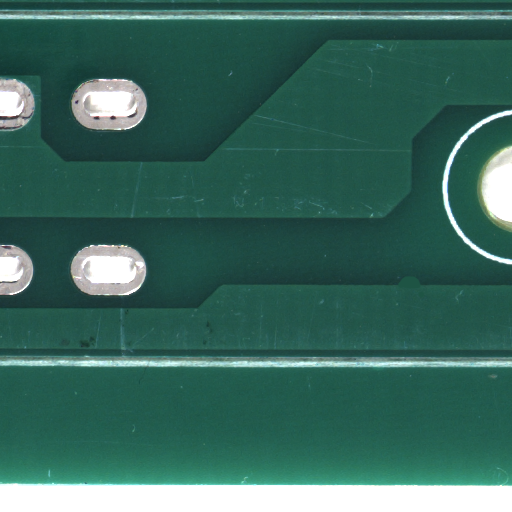Spur: (407, 280, 432, 290)
